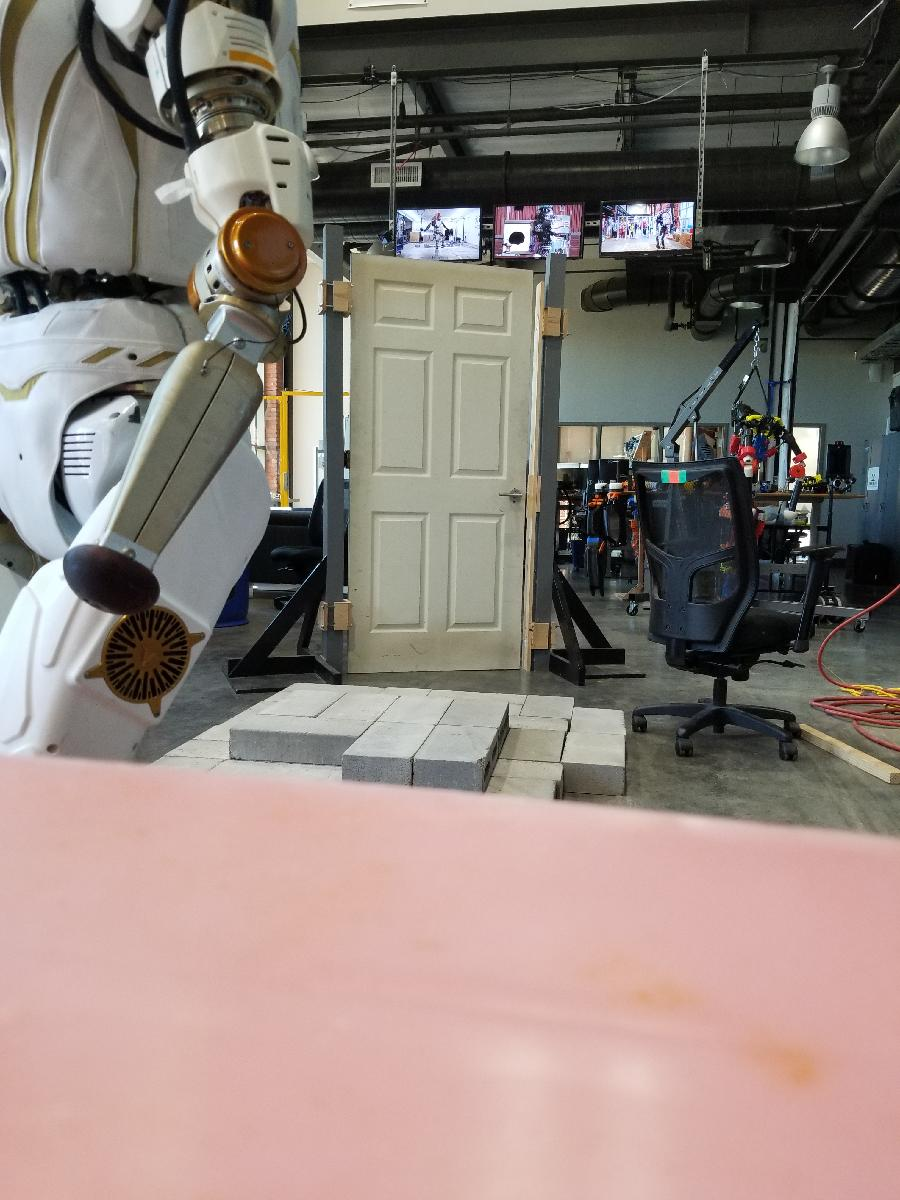door: (342, 249, 536, 676)
doorHandle: (494, 485, 526, 512)
